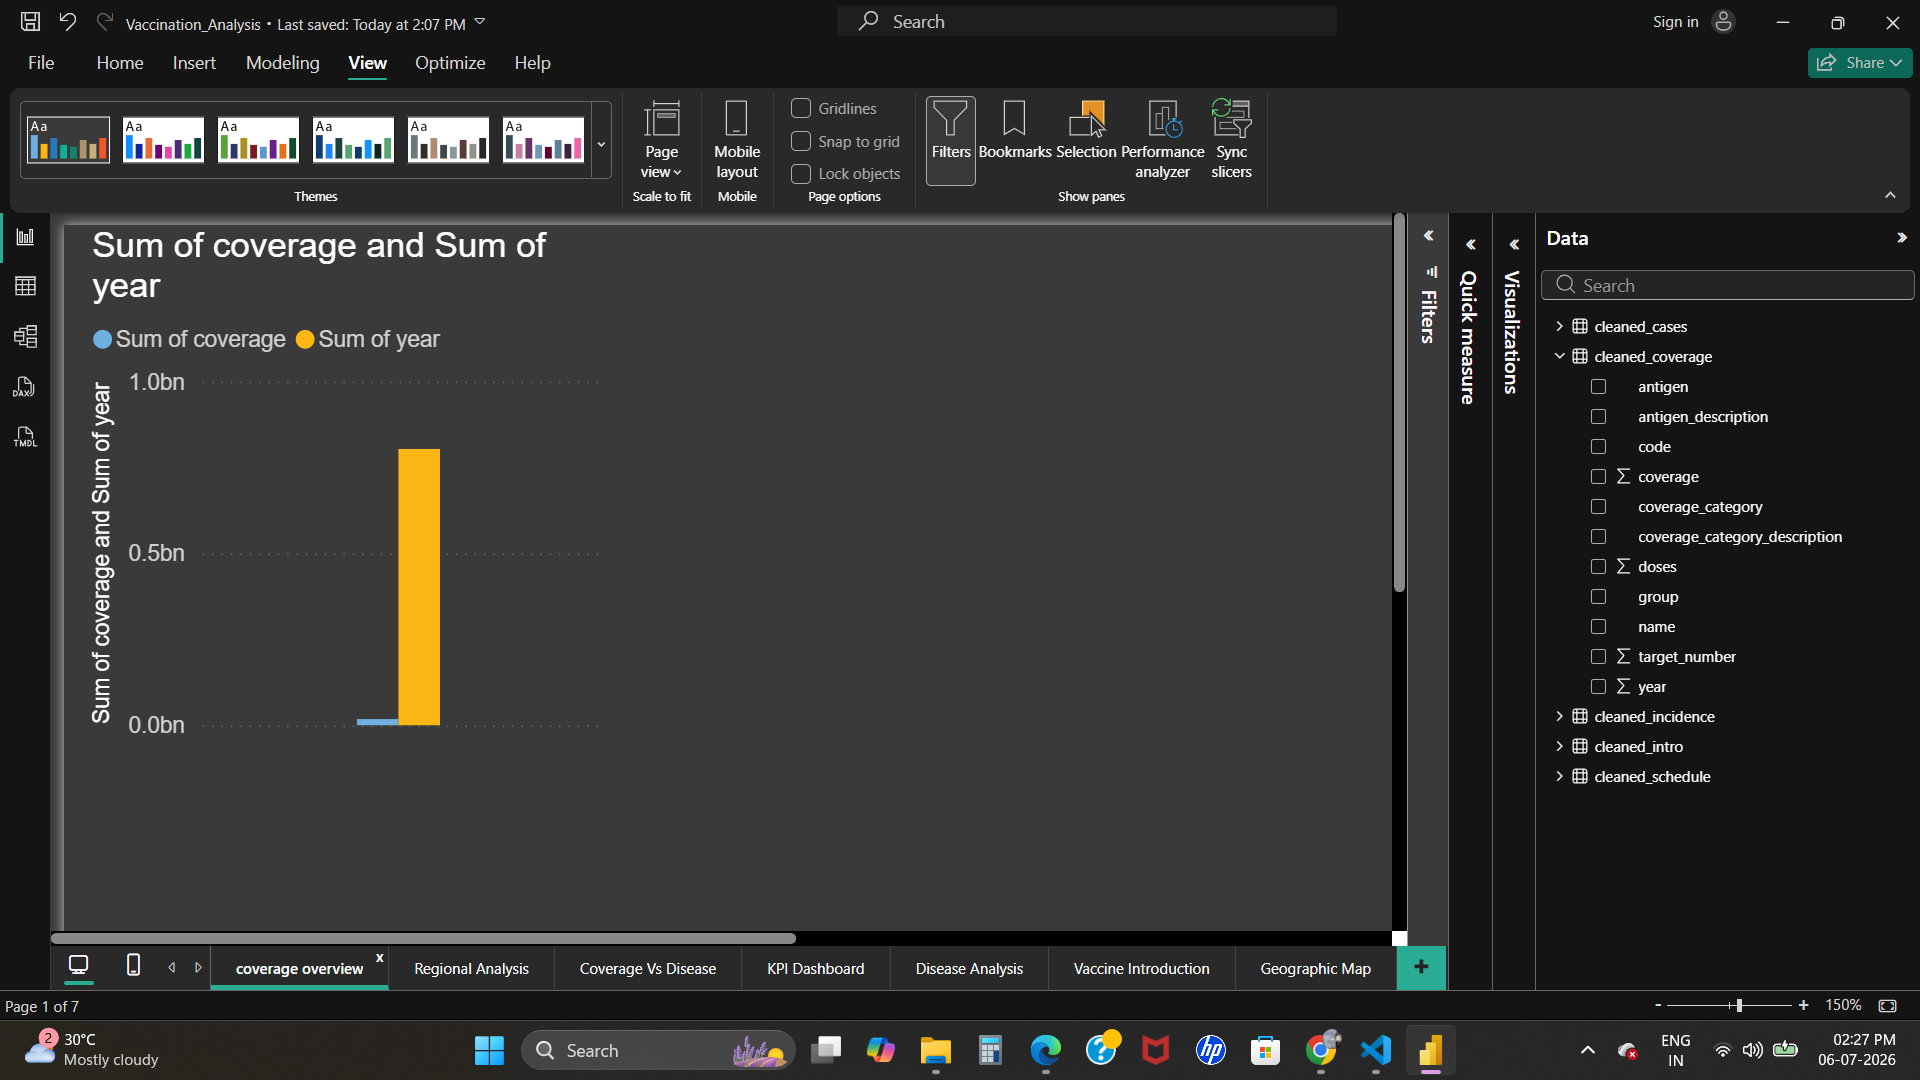

Layout of this report page (visuals, bound fields, positions):
{"tool":"powerbi","page":{"name":"coverage overview","canvas":[1280,720],"ordinal":0},"visuals":[{"type":"clusteredColumnChart","fields":{"Y":["Sum(cleaned_coverage.coverage)","Sum(cleaned_coverage.year)"]},"box":[10,0,280,280],"z":0}]}

Visuals, with their boxes on the page's 1280x720 design canvas (x1, y1, x2, y2). These are canvas units, not pixel positions in the 1920x1080 screenshot, which may show the page scaled, cropped or inside an application window:
clusteredColumnChart - Sum(cleaned_coverage.coverage) x Sum(cleaned_coverage.year): (10, 0, 290, 280)
